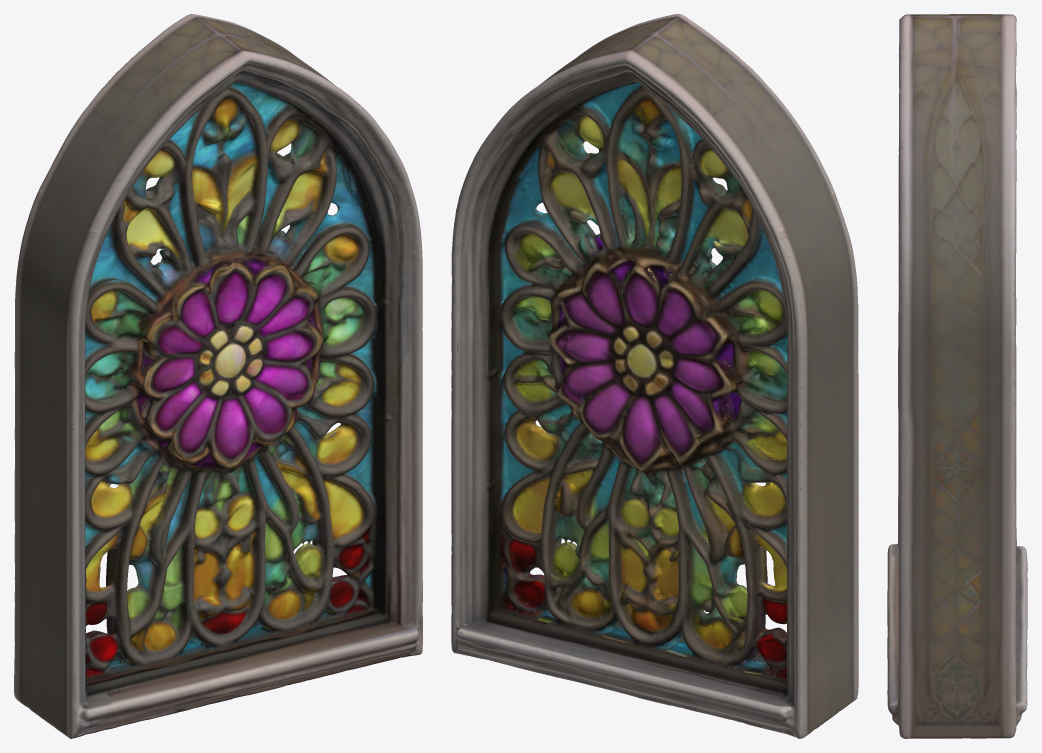
3 views of the same model, side by side, from view 1: azimuth 30°, elevation 25°; view 2: azimuth 150°, elevation 25°; view 3: azimuth 270°, elevation 25° (orthographic).
Parts seen in each view (by area): view 1: Mesh_0; view 2: Mesh_0; view 3: Mesh_0.
Boxes of the visible parts, bbox=[...] form: Mesh_0: bbox=[14, 14, 422, 738]; Mesh_0: bbox=[451, 14, 858, 738]; Mesh_0: bbox=[887, 14, 1027, 738].
Size of the model in its own units: 115 by 201 by 40.04.
Materials: 1 (1 with a texture image).
